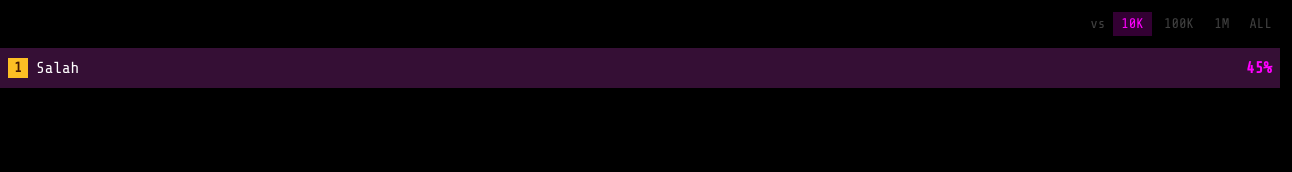
Test: CaptainBattle › shows no captain rows when tier has no captain data
// Switch to 100K which has no captain data
Click the button "100K": (1179, 24) [1156,12,1202,36]
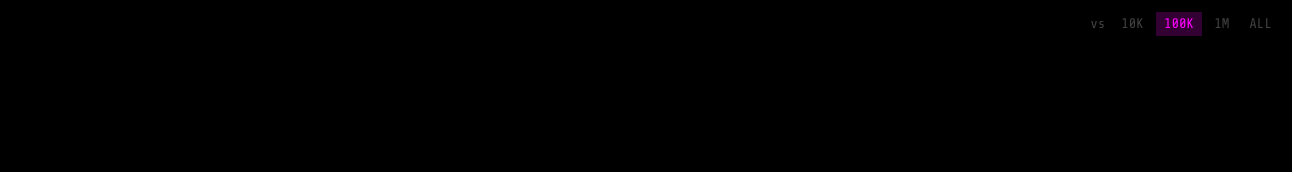
expect the text "Salah" is gone: met
expect the text "45%" is gone: met
